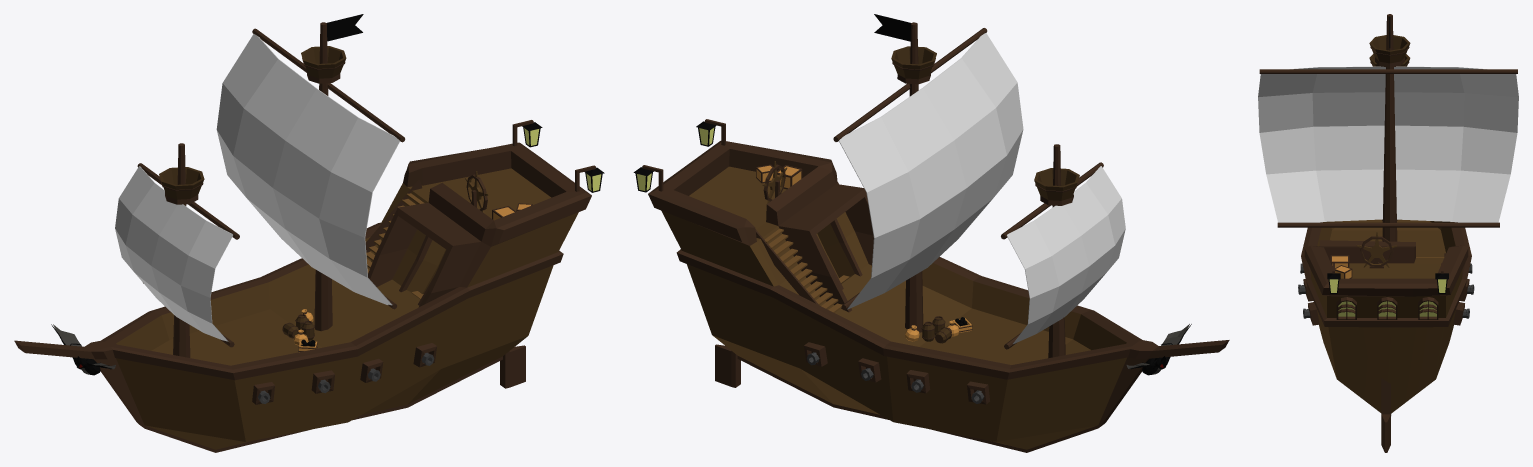
The model's file is Main Boat from Over the Seas GGJ'17.fbx.
3 views of the same model, side by side, from view 1: azimuth 30°, elevation 25°; view 2: azimuth 150°, elevation 25°; view 3: azimuth 270°, elevation 25° (orthographic). The views are drawn at different scales.
Parts seen in each view (by area): view 1: Eslora, VelaMayor, VelaDeProa, MastilPrincipal, NidoVistaVelaMayor, NidoVista, Travesaños, MastilDeProa, PalaTimon, Bandera, TravesañosDeProa; view 2: Eslora, VelaMayor, VelaDeProa, Escaleras, MastilPrincipal, NidoVistaVelaMayor, NidoVista, Travesaños, MastilDeProa, PalaTimon, PlanchaEscaleras, Bandera (+1 smaller); view 3: VelaMayor, Eslora, Travesaños, MastilPrincipal, Ventana, NidoVistaVelaMayor, PalaTimon, Cristales, Timon, RuedaTimon.
Boxes of the visible parts, left/top/right/bottom form: Eslora: left=14, top=142, right=591, bottom=452; VelaMayor: left=216, top=34, right=399, bottom=305; VelaDeProa: left=115, top=166, right=232, bottom=341; MastilPrincipal: left=314, top=22, right=332, bottom=331; NidoVistaVelaMayor: left=301, top=46, right=346, bottom=83; NidoVista: left=159, top=167, right=204, bottom=204; Travesaños: left=252, top=28, right=405, bottom=309; MastilDeProa: left=173, top=143, right=190, bottom=357; PalaTimon: left=500, top=345, right=525, bottom=388; Bandera: left=326, top=14, right=363, bottom=41; TravesañosDeProa: left=137, top=163, right=239, bottom=347; Eslora: left=648, top=141, right=1229, bottom=452; VelaMayor: left=839, top=33, right=1023, bottom=309; VelaDeProa: left=1006, top=166, right=1125, bottom=343; Escaleras: left=764, top=228, right=849, bottom=312; MastilPrincipal: left=905, top=22, right=923, bottom=332; NidoVistaVelaMayor: left=891, top=46, right=936, bottom=84; NidoVista: left=1034, top=168, right=1079, bottom=205; Travesaños: left=833, top=28, right=987, bottom=310; MastilDeProa: left=1048, top=144, right=1065, bottom=358; PalaTimon: left=715, top=344, right=740, bottom=387; PlanchaEscaleras: left=755, top=229, right=818, bottom=304; Bandera: left=874, top=14, right=911, bottom=41; VelaMayor: left=1258, top=66, right=1518, bottom=222; Eslora: left=1301, top=219, right=1471, bottom=415; Travesaños: left=1259, top=69, right=1517, bottom=227; MastilPrincipal: left=1382, top=14, right=1397, bottom=241; Ventana: left=1336, top=297, right=1438, bottom=319; NidoVistaVelaMayor: left=1369, top=35, right=1410, bottom=67; PalaTimon: left=1381, top=378, right=1390, bottom=452; Cristales: left=1338, top=301, right=1436, bottom=316; Timon: left=1356, top=231, right=1397, bottom=267; RuedaTimon: left=1360, top=236, right=1393, bottom=266.
Bounding box in the file's own units: 246 × 172 × 115.
